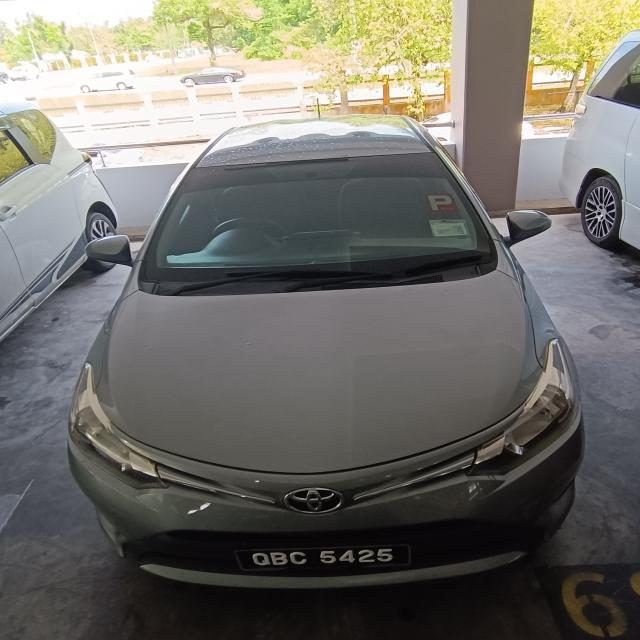ToyotaVios: (66, 112, 586, 590)
